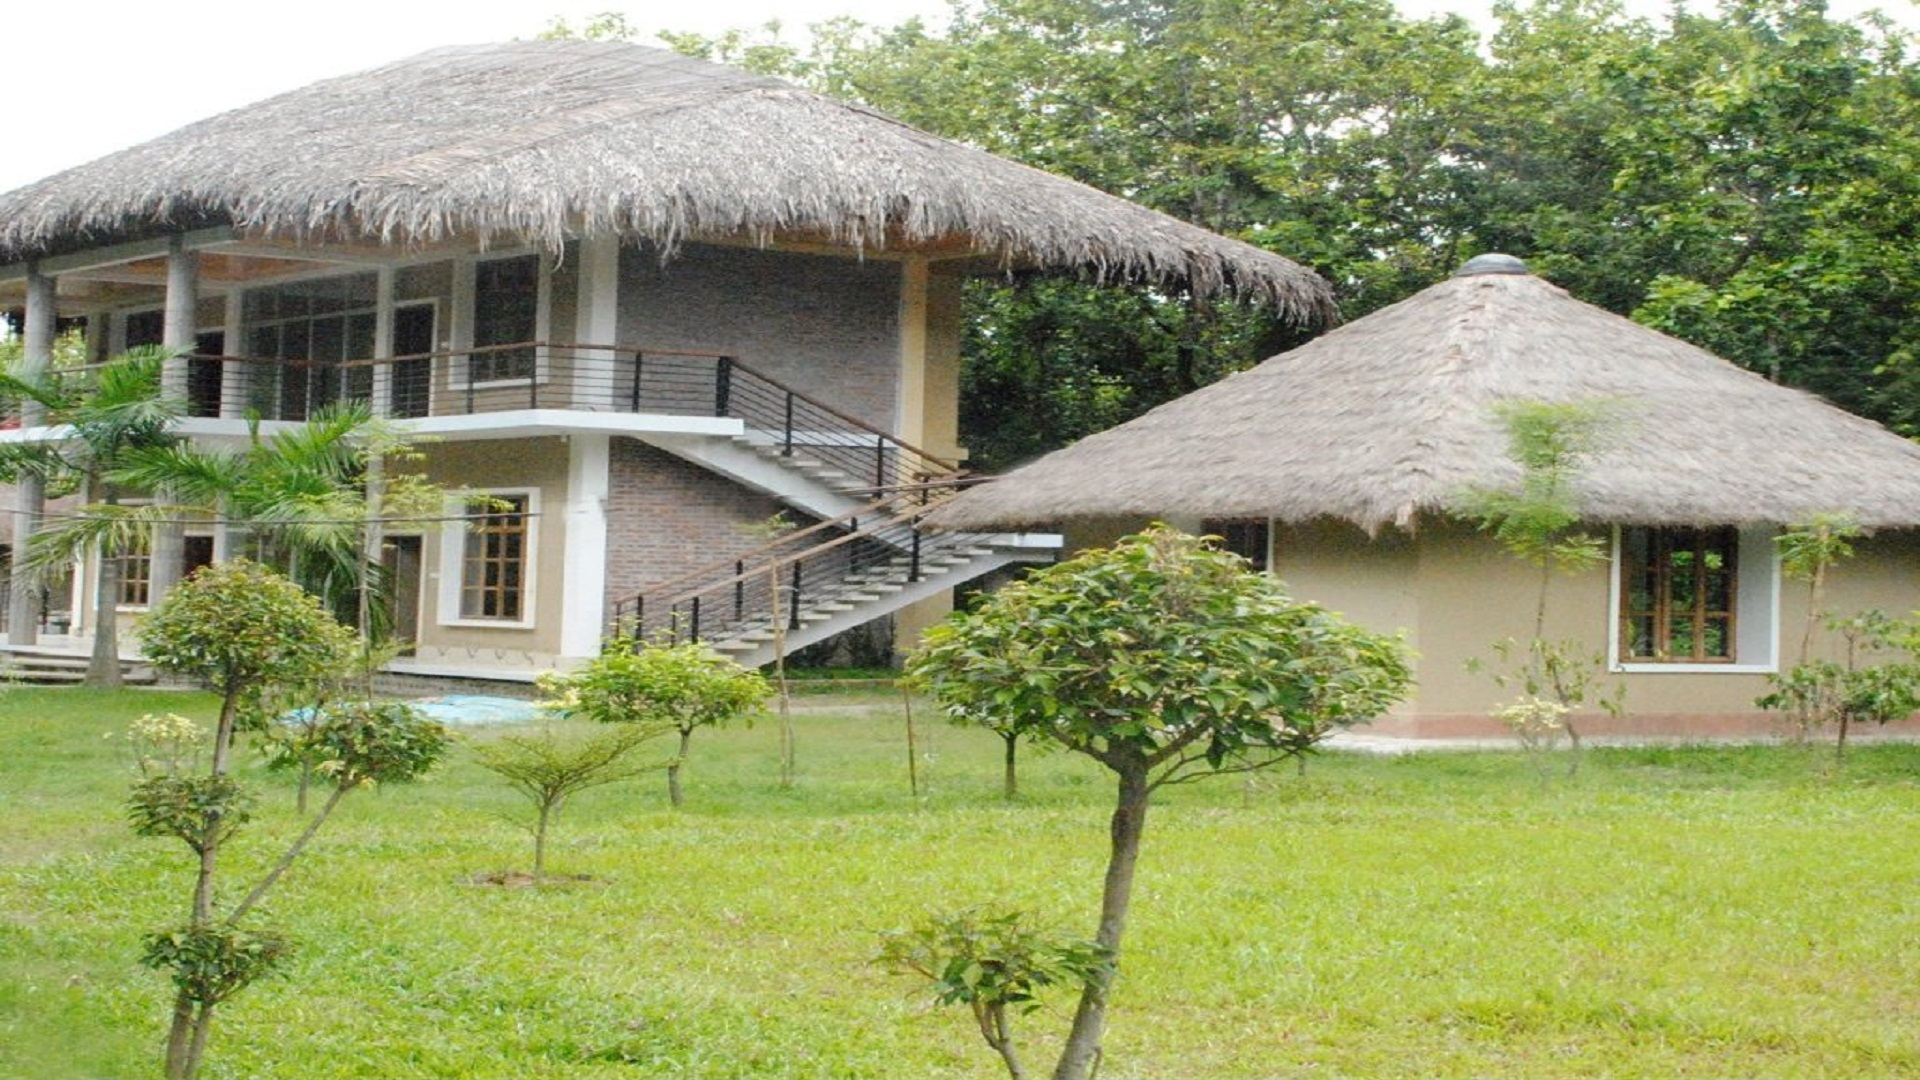Mud House: (26, 45, 1283, 748), (1005, 276, 1894, 798)
